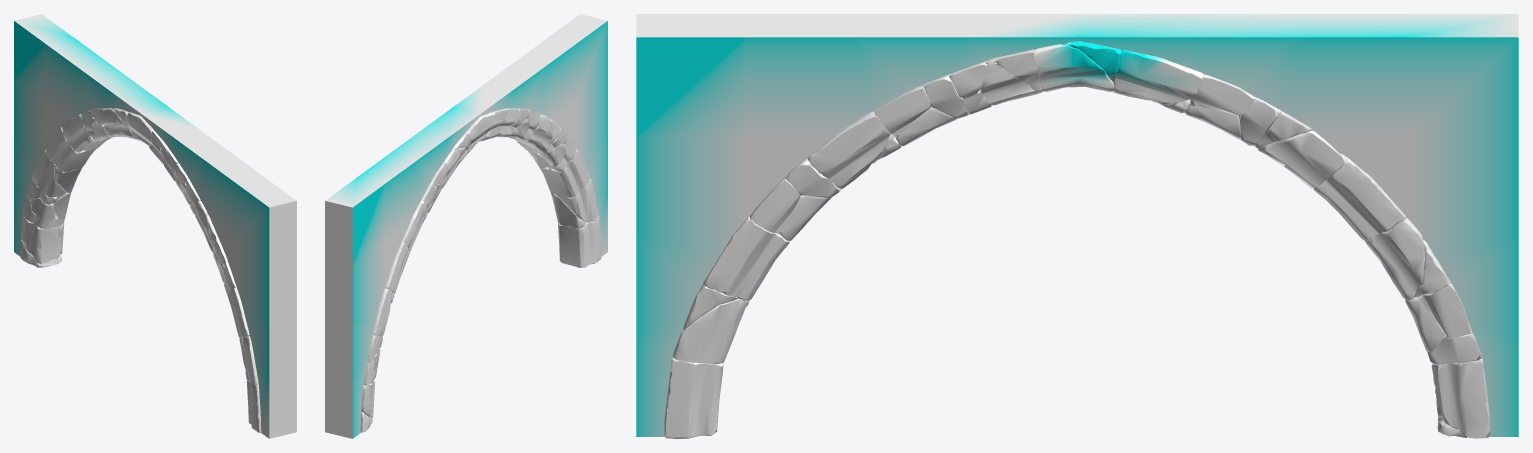
File: SM_ArchWall_OpenArch_8x4_A.fbx
The picture shows the model from 3 angles, left to right: view 1: azimuth 30°, elevation 25°; view 2: azimuth 150°, elevation 25°; view 3: azimuth 270°, elevation 25°; orthographic projection. The views are drawn at different scales.
Visible parts, largest first — view 1: SM_ArchWall_OpenArch_8x4_A_LOD0; view 2: SM_ArchWall_OpenArch_8x4_A_LOD0; view 3: SM_ArchWall_OpenArch_8x4_A_LOD0.
Boxes of the visible parts, x1,y1,x2,y2 form: SM_ArchWall_OpenArch_8x4_A_LOD0: (14, 14, 296, 438); SM_ArchWall_OpenArch_8x4_A_LOD0: (325, 14, 607, 438); SM_ArchWall_OpenArch_8x4_A_LOD0: (636, 14, 1518, 438).
Size of the model in its own units: 59.29 by 800 by 400.
